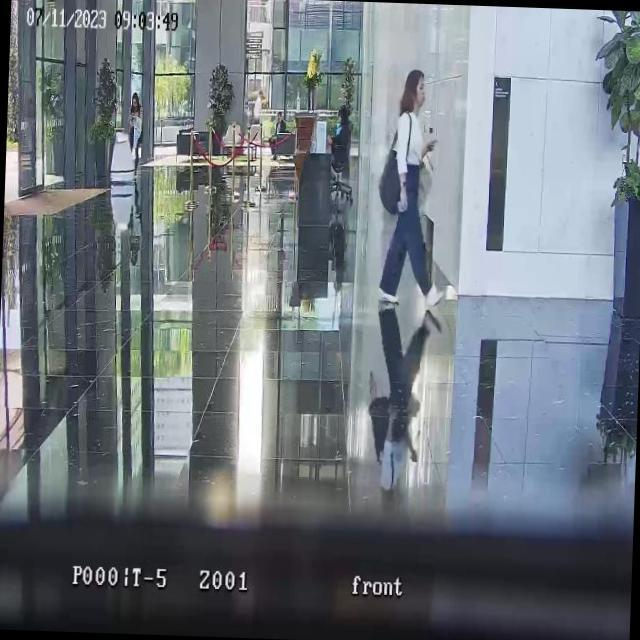person: (376, 67, 452, 311), (332, 104, 352, 178), (126, 92, 142, 162), (266, 110, 287, 160)
